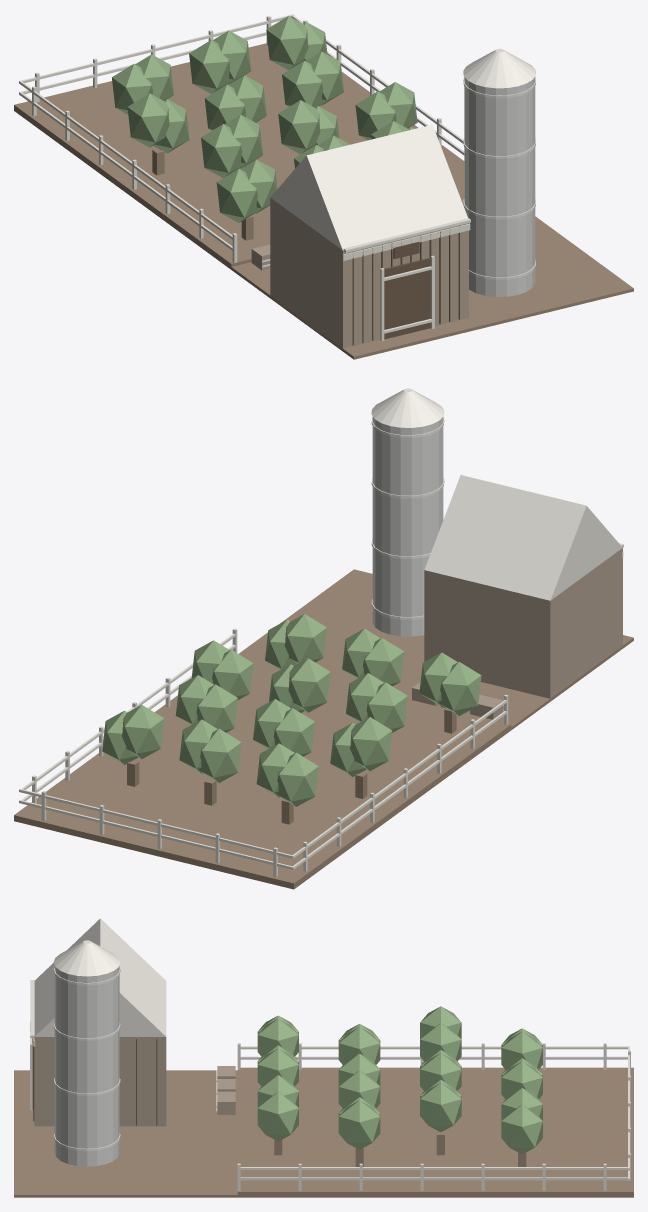
The model's file is farm_2x4_b.glb.
The picture shows the model from 3 angles, top to bottom: view 1: azimuth 30°, elevation 25°; view 2: azimuth 150°, elevation 25°; view 3: azimuth 270°, elevation 25°; orthographic projection. The views are drawn at different scales.
Parts seen in each view (by area): view 1: farm_2x4_b_yard; view 2: farm_2x4_b_yard; view 3: farm_2x4_b_yard.
Part boxes in pixels (x1,y1,x2,y2): farm_2x4_b_yard: (14, 14, 633, 359); farm_2x4_b_yard: (14, 388, 633, 889); farm_2x4_b_yard: (14, 918, 633, 1197).
Size of the model in its own units: 14.5 by 11.6 by 30.5.
